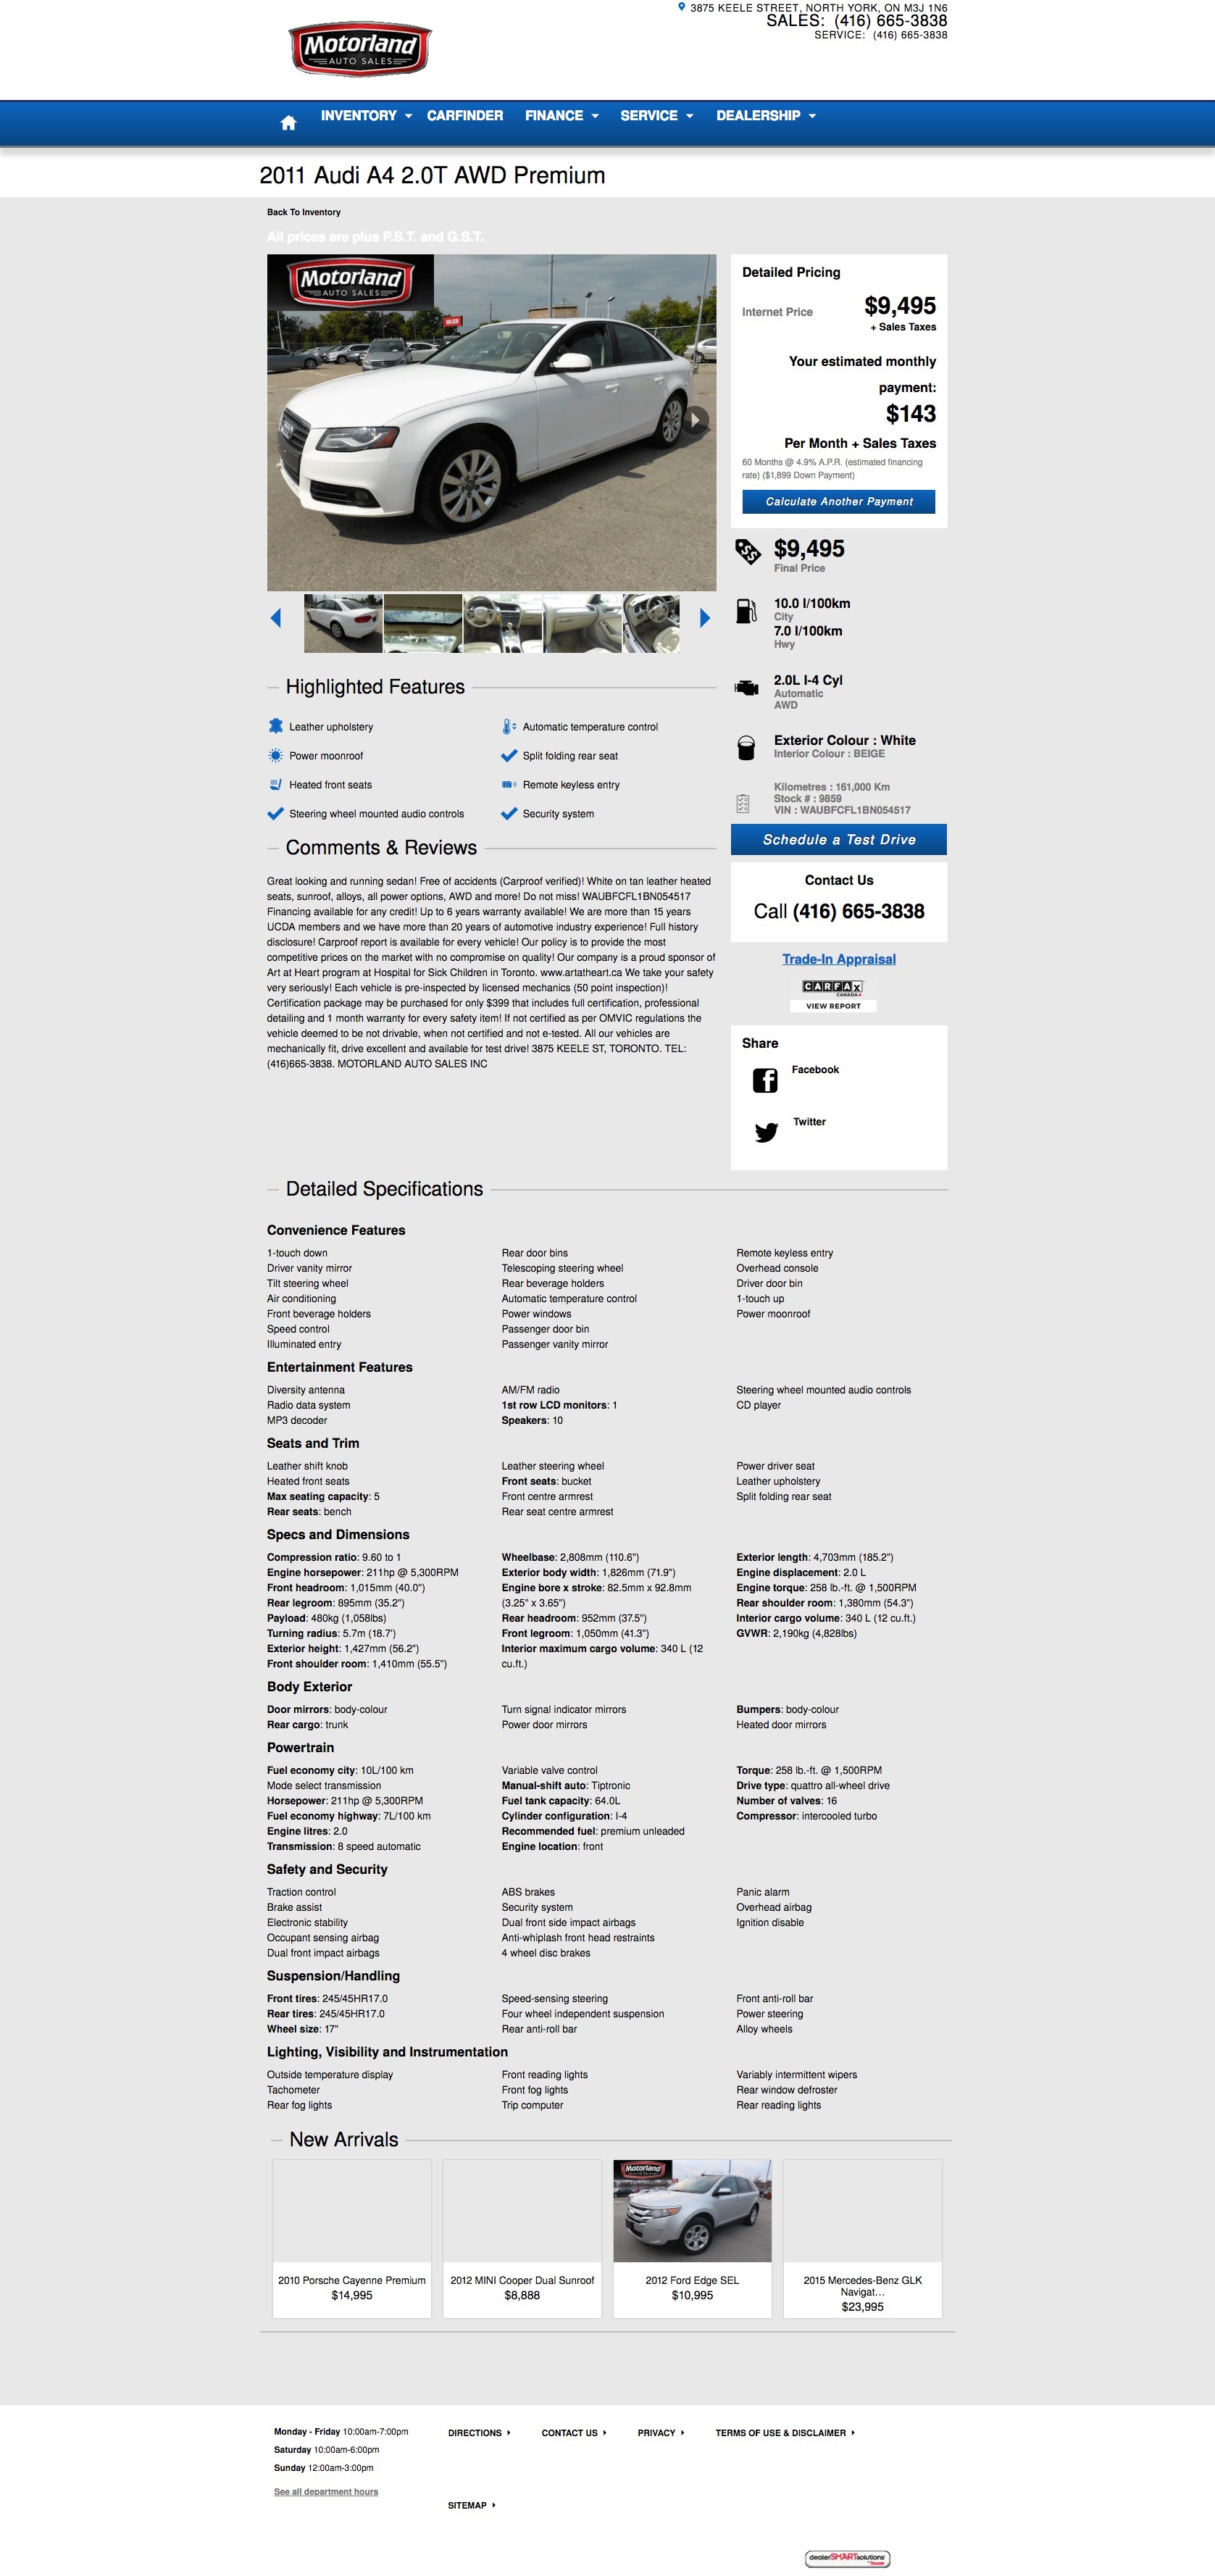car: (699, 608, 713, 629)
